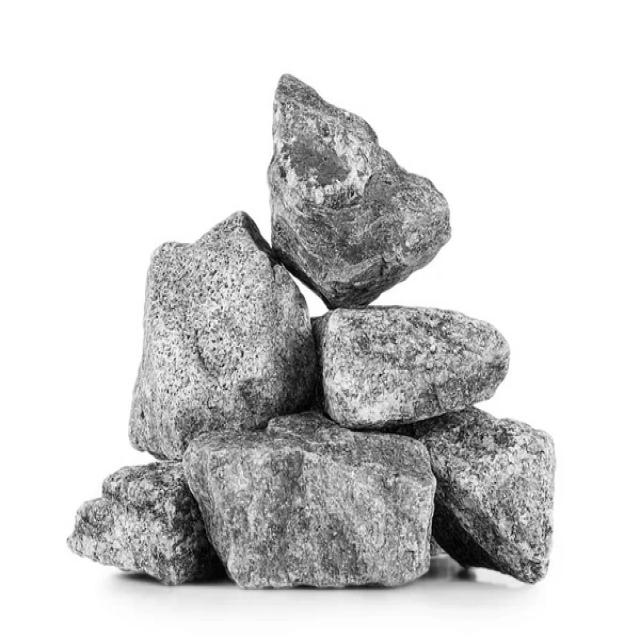Stone: (129, 212, 316, 460), (184, 412, 438, 589), (268, 74, 451, 308), (398, 408, 557, 584), (313, 308, 510, 429), (67, 462, 223, 586)
